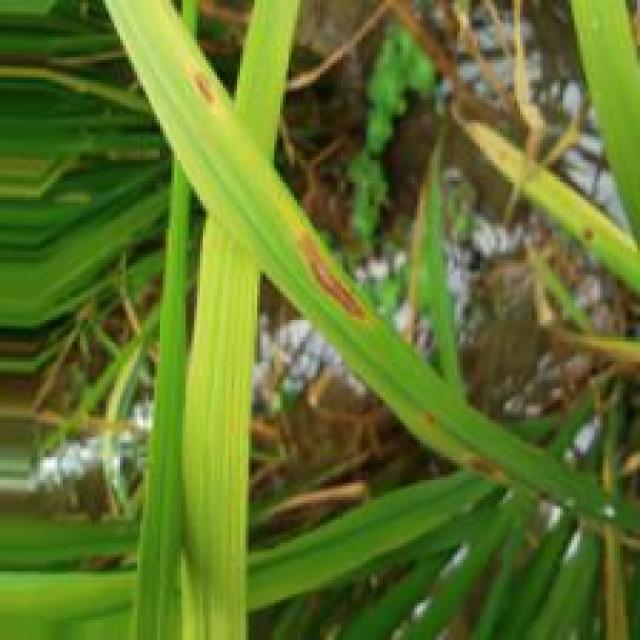Narrow_Brown_Leaf_Spot: (297, 228, 373, 325), (460, 454, 518, 489), (184, 63, 212, 123)
